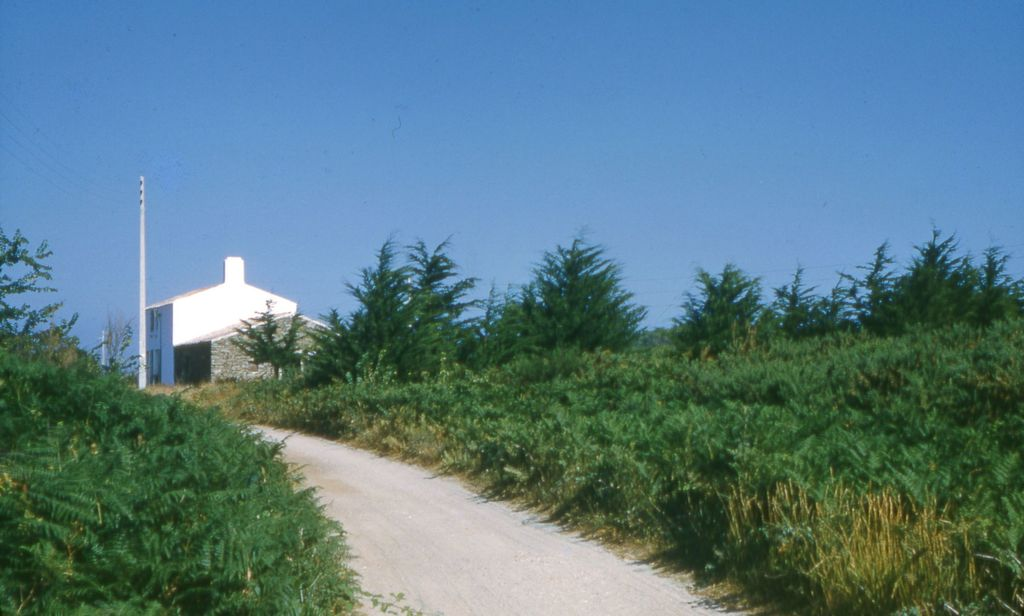Tree: (0, 221, 1023, 615)
